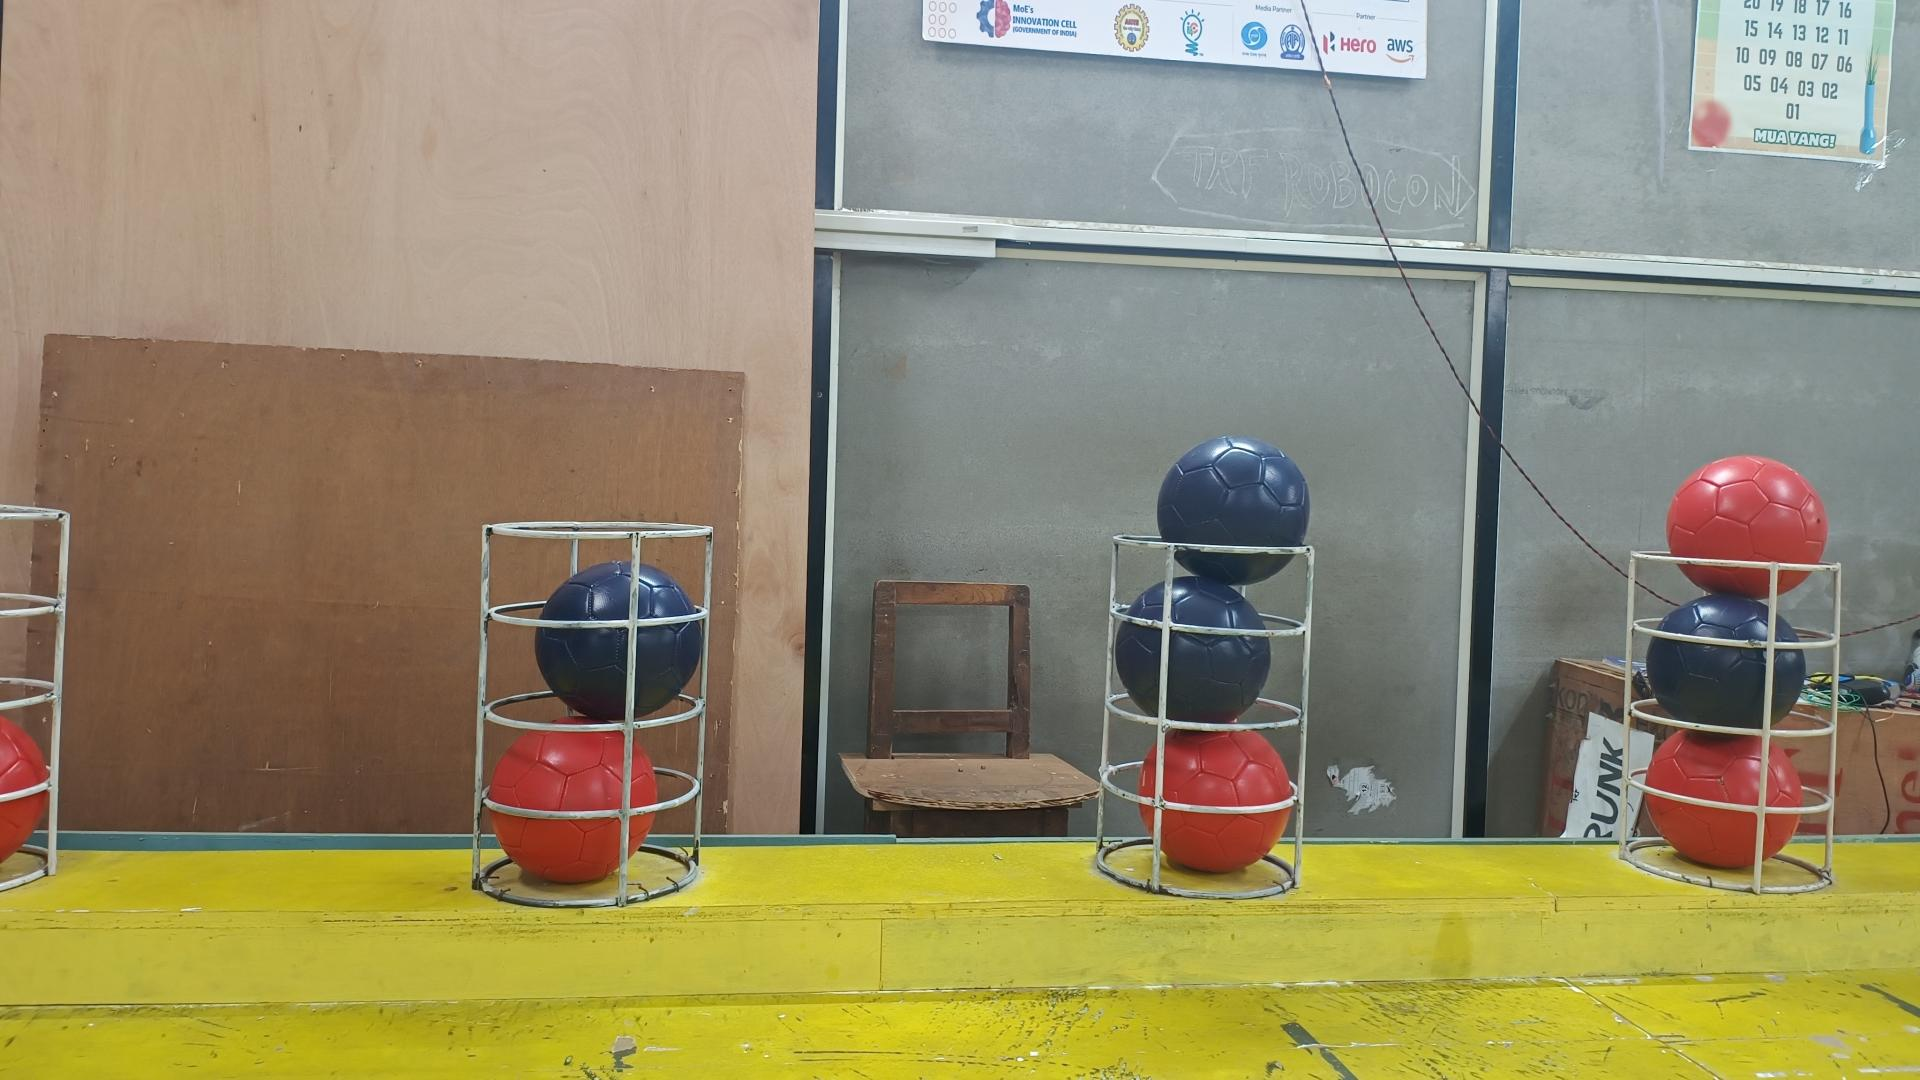dhoka: (537, 563, 705, 724), (1114, 574, 1271, 724), (1646, 592, 1808, 732), (1159, 435, 1308, 585)
laale: (488, 724, 659, 885), (1665, 454, 1830, 600), (1137, 728, 1294, 874), (1646, 732, 1804, 870), (0, 716, 49, 862)
